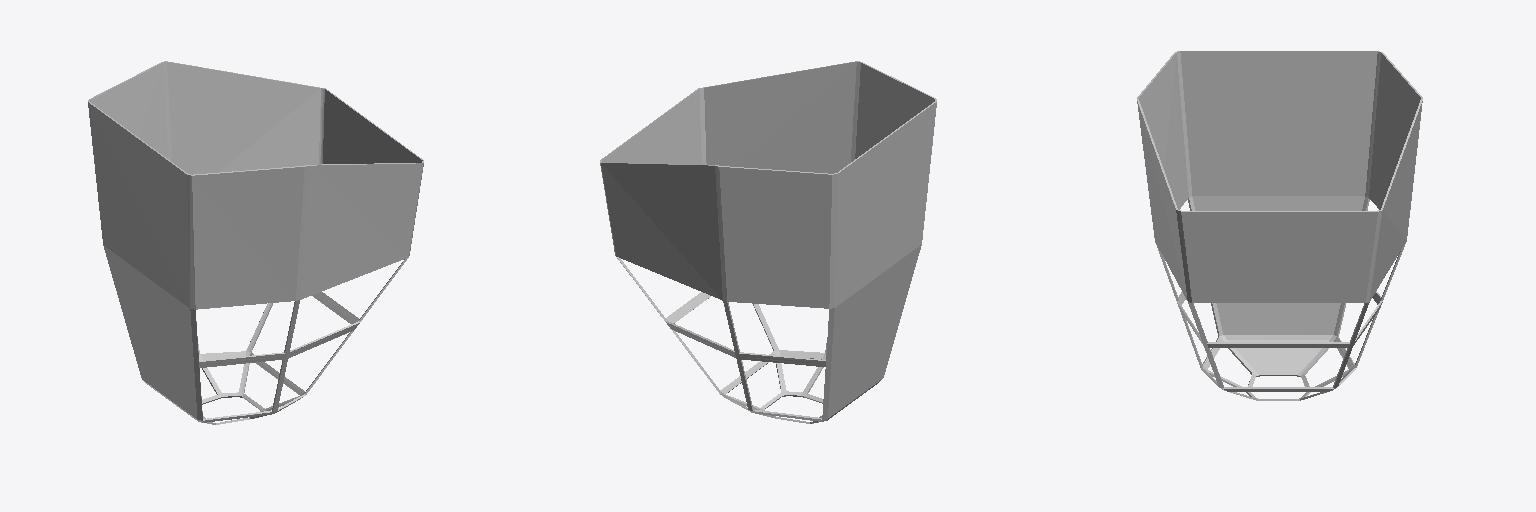
File: Kabina1_scaled.obj
The picture shows the model from 3 angles: view 1: azimuth 30°, elevation 25°; view 2: azimuth 150°, elevation 25°; view 3: azimuth 270°, elevation 25°; orthographic projection.
Visible parts, largest first — view 1: Rim_eight_spokes___body_Rim_eight_spokes___body.001; view 2: Rim_eight_spokes___body_Rim_eight_spokes___body.001; view 3: Rim_eight_spokes___body_Rim_eight_spokes___body.001.
Part boxes in pixels (x1,y1,x2,y2): Rim_eight_spokes___body_Rim_eight_spokes___body.001: (88,61,423,424); Rim_eight_spokes___body_Rim_eight_spokes___body.001: (600,61,936,423); Rim_eight_spokes___body_Rim_eight_spokes___body.001: (1137,51,1422,400).
Size of the model in its own units: 22.86 by 27.02 by 23.77.